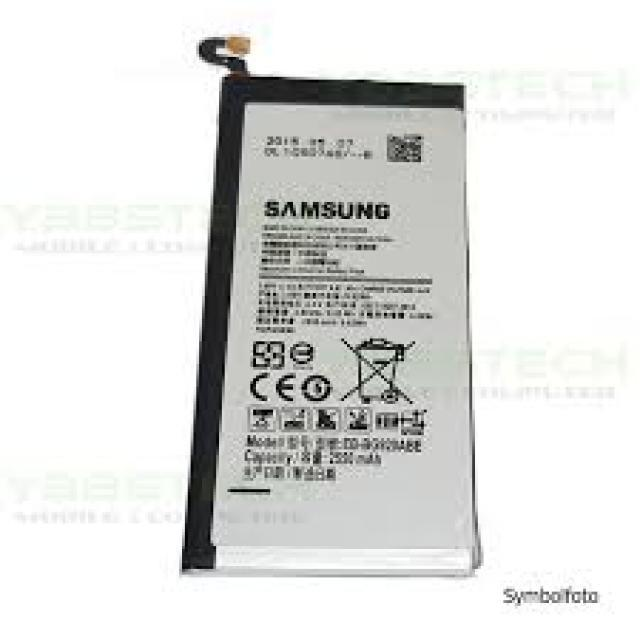battery: (174, 36, 482, 578)
